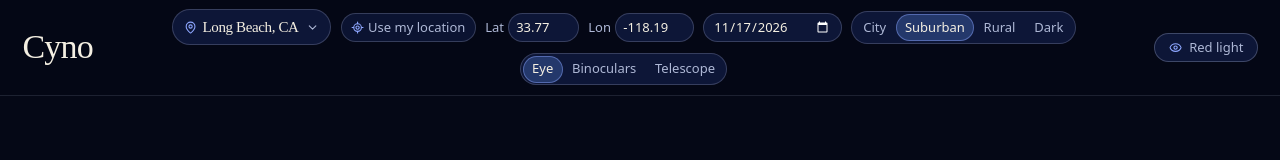
Scenario: ControlsBar › links each field error to its input with aria-describedby
Replace the text in the number field named "Latitude" with "95": {"x": 543, "y": 27} [508,13,579,42]
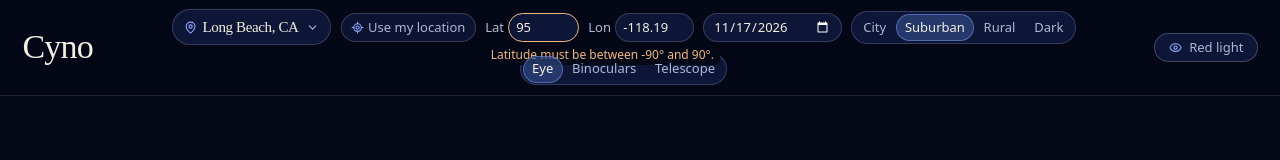
Replace the text in the number field named "Longitude" with "200": {"x": 654, "y": 27} [615,13,694,42]
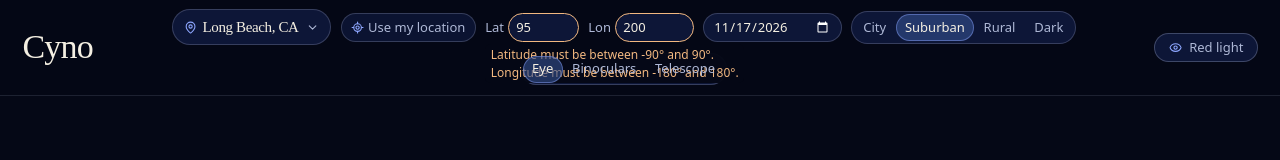
Expected: the message "Latitude must be between -90° and 90°." is shown, [491,46,714,64]
Expected: the number of messages is 2, [491,46,714,64]; [491,64,739,82]
Expected: the message "Longitude must be between -180° and 180°." is shown, [491,64,739,82]
Replace the text in the number field named "Latitude" with "45": {"x": 543, "y": 27} [508,13,579,42]
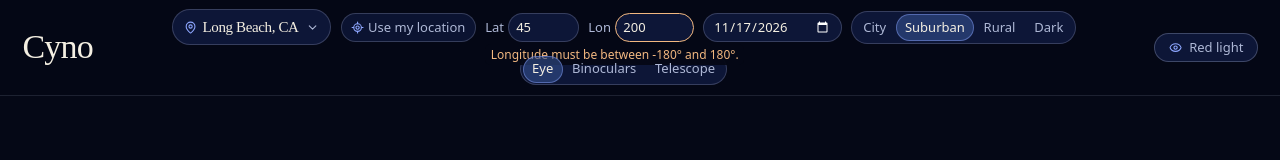
Expected: the number field named "Latitude" does not have attribute aria-describedby, [508,13,579,42]
